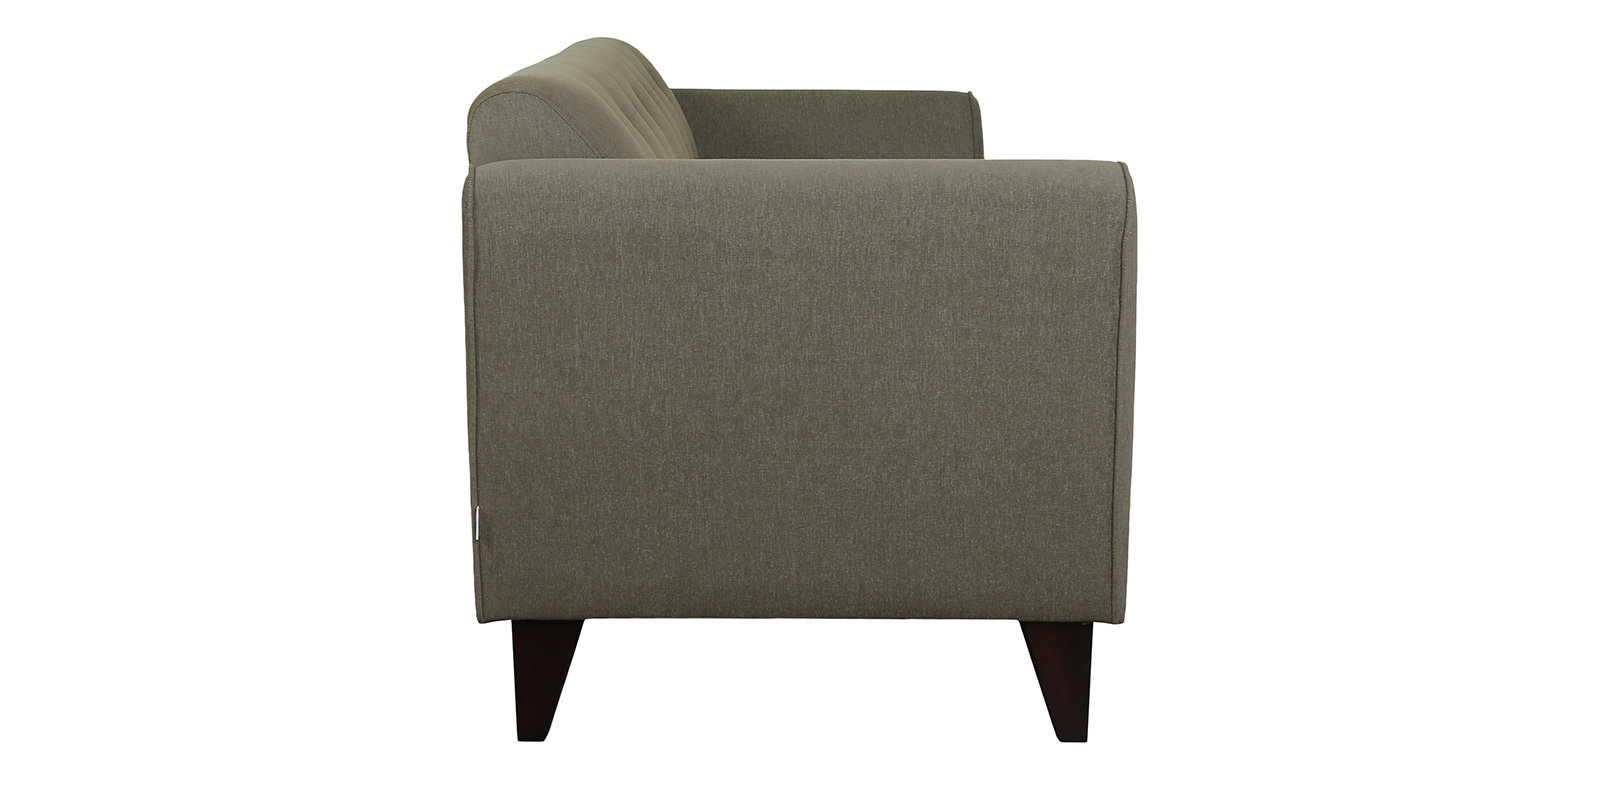Belem Three Seater Sofa in Ice Blue Color by CasaCraft: (433, 36, 1159, 672)
